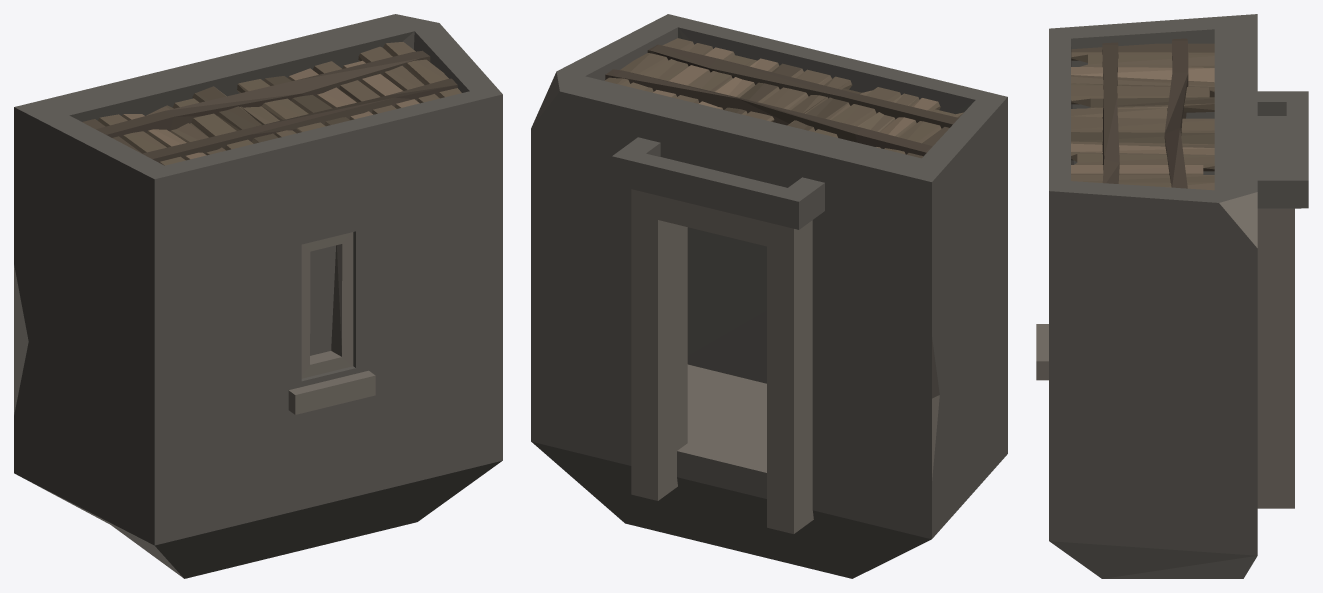
The model's file is SM_Bld_Fort_Tower_Room_01.glb.
The picture shows the model from 3 angles, left to right: view 1: azimuth 30°, elevation 25°; view 2: azimuth 150°, elevation 25°; view 3: azimuth 270°, elevation 25°; orthographic projection. The views are drawn at different scales.
Visible parts, largest first — view 1: SM_Bld_Fort_Tower_Room_01_part00; view 2: SM_Bld_Fort_Tower_Room_01_part00; view 3: SM_Bld_Fort_Tower_Room_01_part00.
Boxes of the visible parts, left/top/right/bottom form: SM_Bld_Fort_Tower_Room_01_part00: left=14, top=14, right=502, bottom=578; SM_Bld_Fort_Tower_Room_01_part00: left=531, top=14, right=1007, bottom=578; SM_Bld_Fort_Tower_Room_01_part00: left=1036, top=14, right=1308, bottom=578.
Bounding box in the file's own units: 3.16 × 3.19 × 1.9.
Materials: 1 (1 with a texture image).
